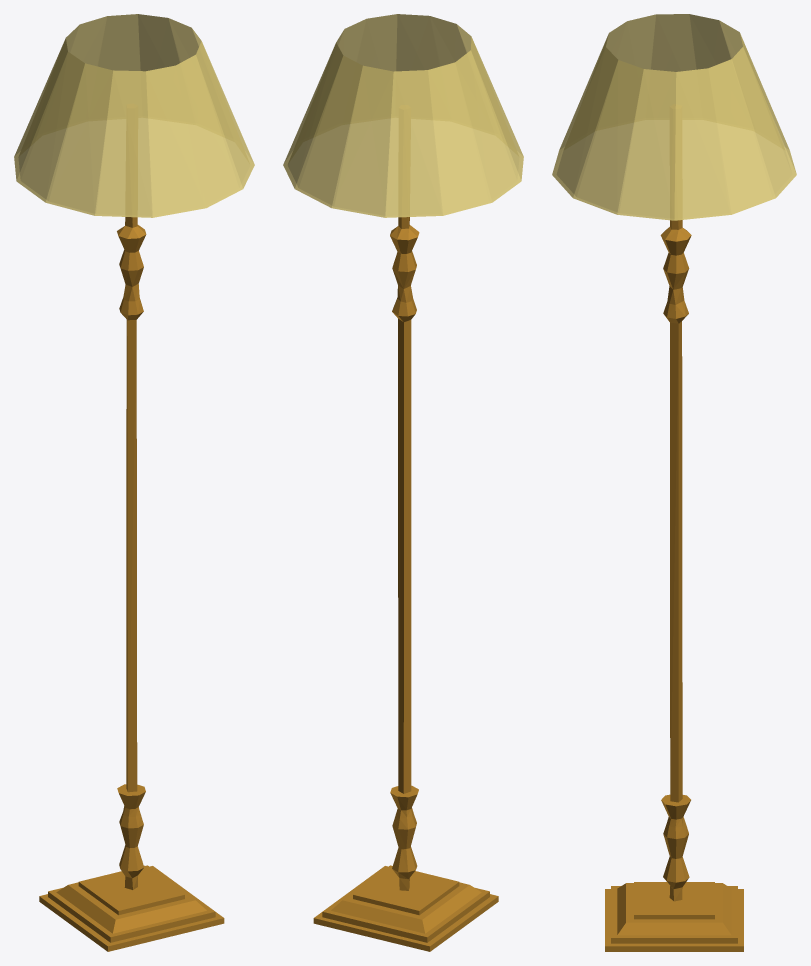
Rendered from lamparasuelo.FBX.
3 views of the same model, side by side, from view 1: azimuth 30°, elevation 25°; view 2: azimuth 150°, elevation 25°; view 3: azimuth 270°, elevation 25° (orthographic).
Visible parts, largest first — view 1: lamp; view 2: lamp; view 3: lamp.
Boxes of the visible parts, x1=… form: lamp: x1=14, y1=14, x2=254, y2=951; lamp: x1=283, y1=14, x2=523, y2=951; lamp: x1=552, y1=14, x2=796, y2=951.
Bounding box in the file's own units: 105 × 419 × 106.
